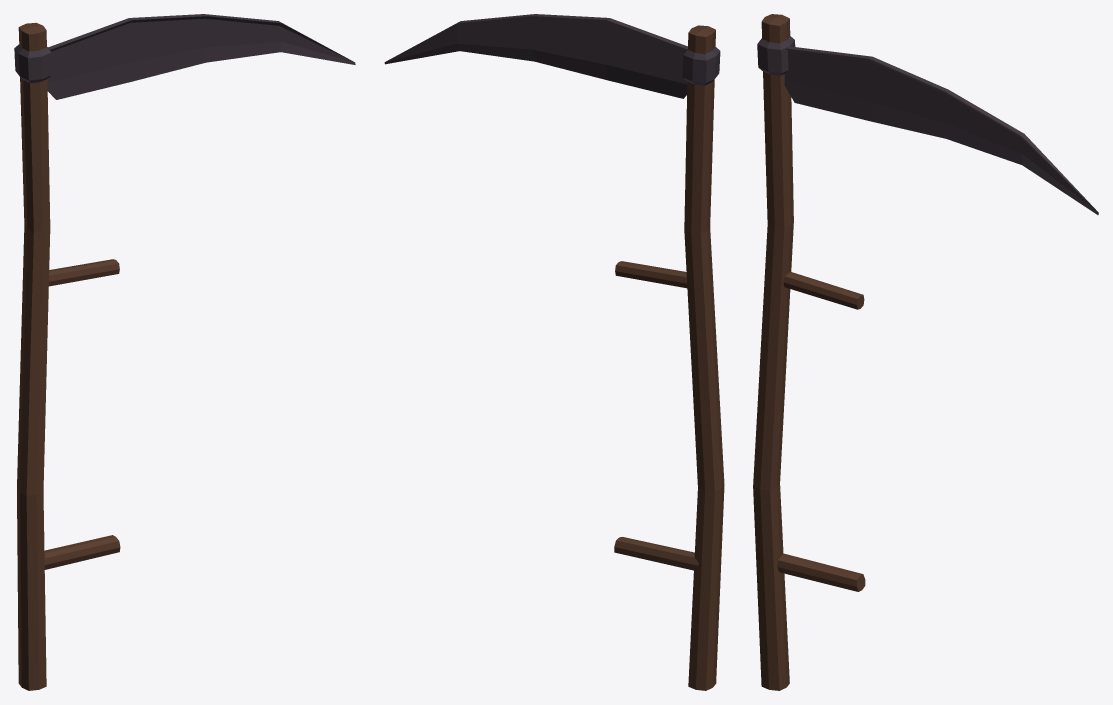
Rendered from Scythe.fbx.
3 renders of one model, left to right at view 1: azimuth 30°, elevation 25°; view 2: azimuth 150°, elevation 25°; view 3: azimuth 330°, elevation 25°, orthographic.
Visible parts, largest first — view 1: Scythe; view 2: Scythe; view 3: Scythe.
Boxes of the visible parts, x1,y1,x2,y2 form: Scythe: (14,14,355,690); Scythe: (384,14,724,690); Scythe: (753,14,1098,690).
Bounding box in the file's own units: 1.1 × 2.06 × 0.1028.
